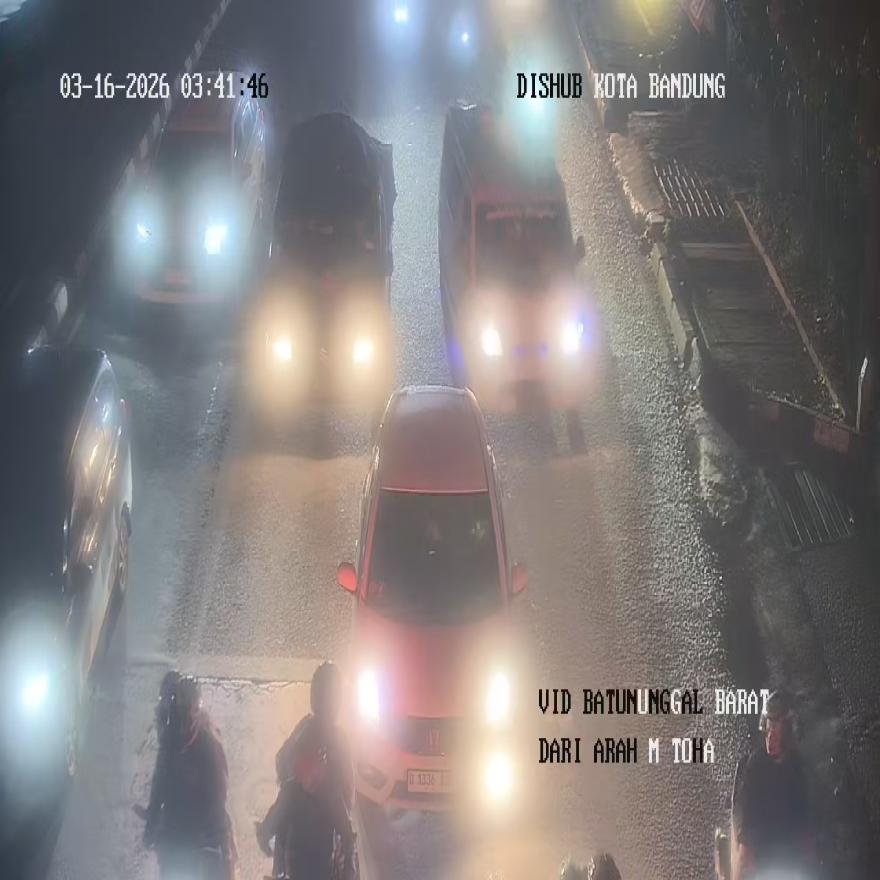Motor: (338, 385, 528, 814), (0, 342, 132, 801), (438, 99, 594, 406), (256, 112, 395, 410), (116, 68, 268, 319)
Truk: (141, 672, 236, 878)
